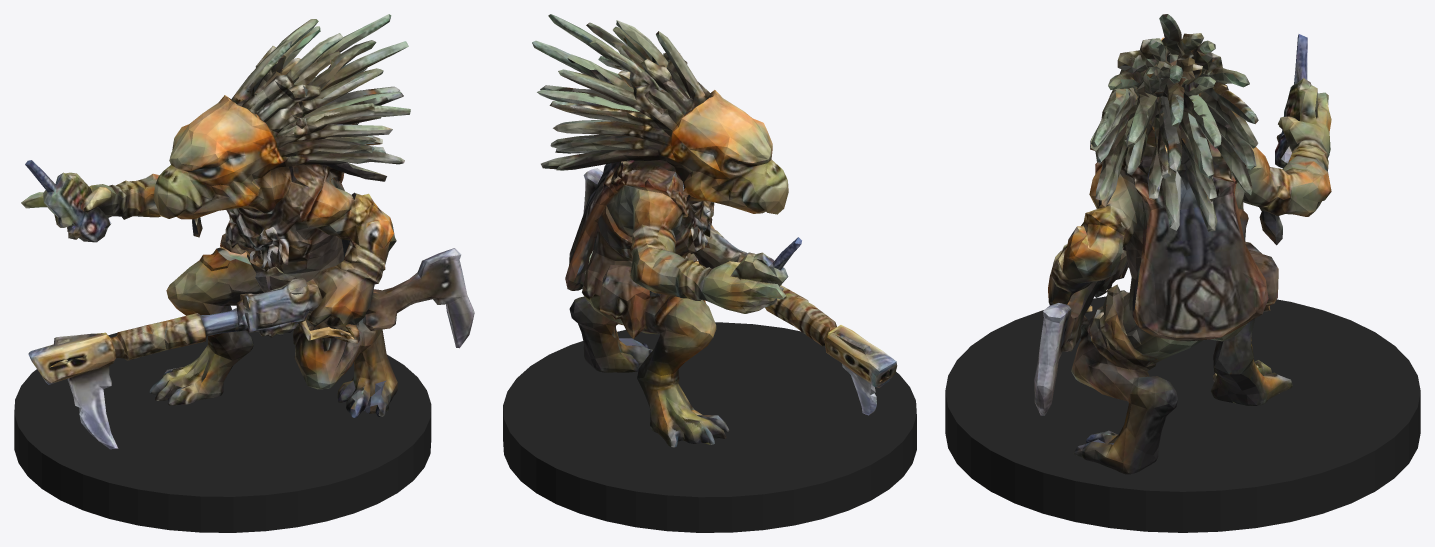
The model's file is fk-tracker.glb.
3 views of the same model, side by side, from view 1: azimuth 30°, elevation 25°; view 2: azimuth 150°, elevation 25°; view 3: azimuth 270°, elevation 25° (orthographic). The views are drawn at different scales.
Visible parts, largest first — view 1: figure, base; view 2: figure, base; view 3: figure, base.
Boxes of the visible parts, left/top/right/bottom form: figure: left=21, top=14, right=474, bottom=449; base: left=14, top=330, right=431, bottom=532; figure: left=532, top=14, right=897, bottom=447; base: left=503, top=322, right=916, bottom=532; figure: left=1034, top=14, right=1331, bottom=474; base: left=945, top=296, right=1420, bottom=532.
Size of the model in its own units: 1.32 by 1.32 by 1.26.
2 materials, 1 textured.
